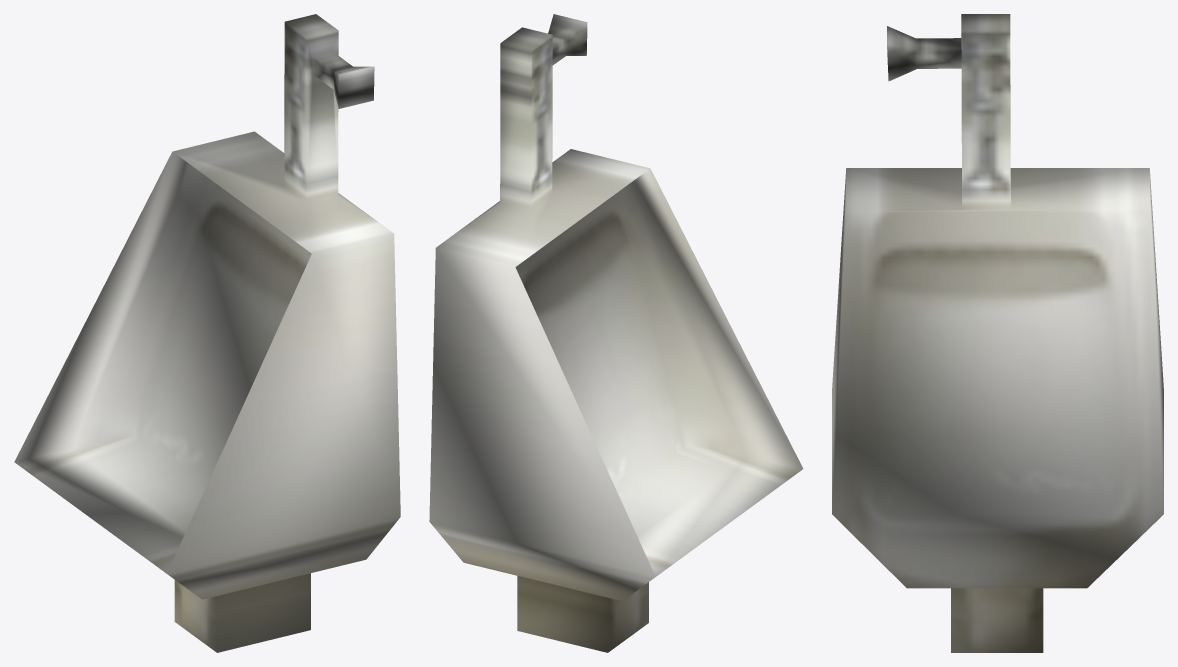
Rendered from PISZOAR.fbx.
3 views of the same model, side by side, from view 1: azimuth 30°, elevation 25°; view 2: azimuth 150°, elevation 25°; view 3: azimuth 270°, elevation 25° (orthographic). The views are drawn at different scales.
Parts seen in each view (by area): view 1: Cube; view 2: Cube; view 3: Cube.
Boxes of the visible parts, bbox=[...] form: Cube: bbox=[14, 14, 400, 652]; Cube: bbox=[429, 14, 803, 652]; Cube: bbox=[832, 14, 1163, 652].
Size of the model in its own units: 82.76 by 199 by 93.57.
Materials: 1 (1 with a texture image).
